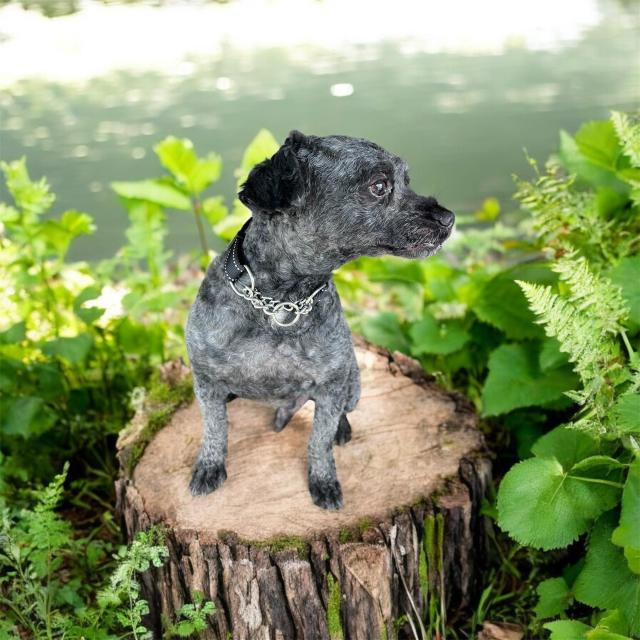Poodle_dog: (220, 122, 465, 296)
